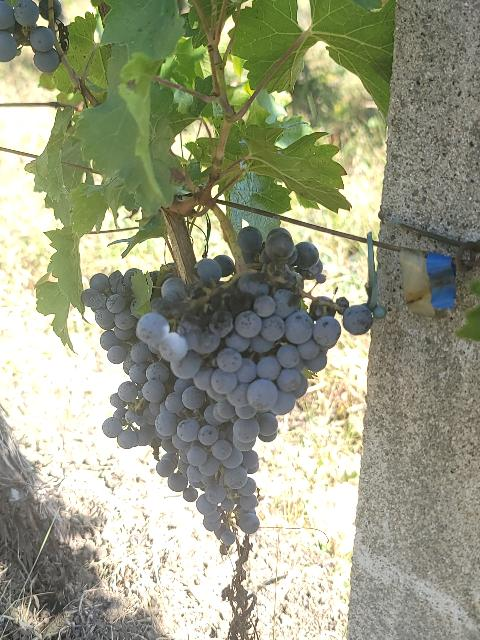grapes: (135, 226, 341, 415), (102, 342, 259, 545), (81, 269, 139, 374)
